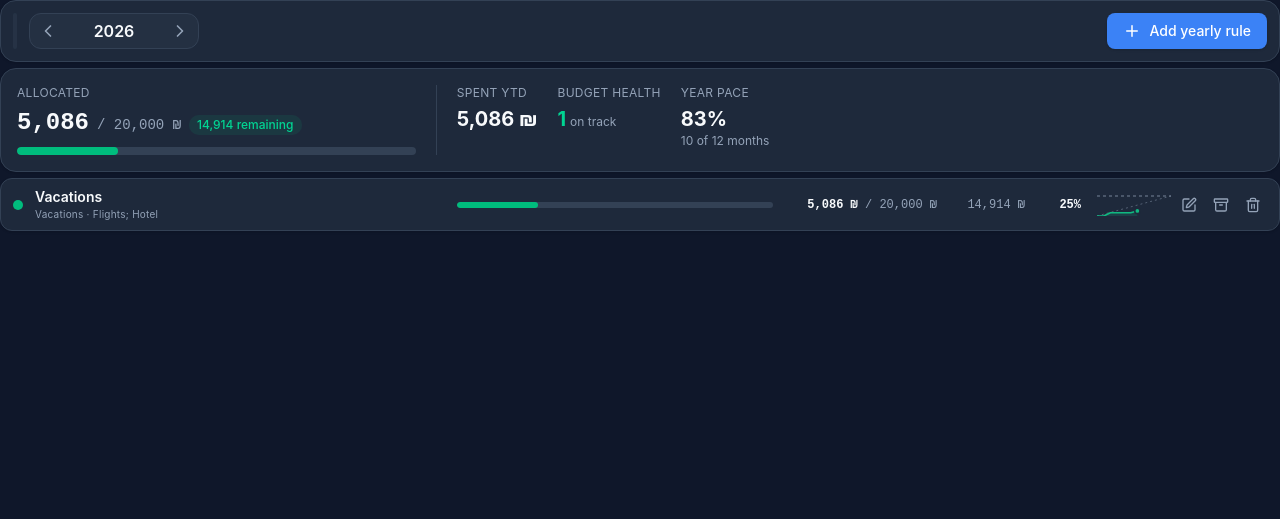
Test: YearlyBudgetView › related transactions › lists the year's transactions behind the rule once expanded
The image size is (1280, 519).
Click the button named "01.26 0 ₪ · 02.26 0 ₪ · 03.26 3.2K ₪ · 04.26 3.2K ₪". click: (592, 204)
box: [13,179,1171,230]
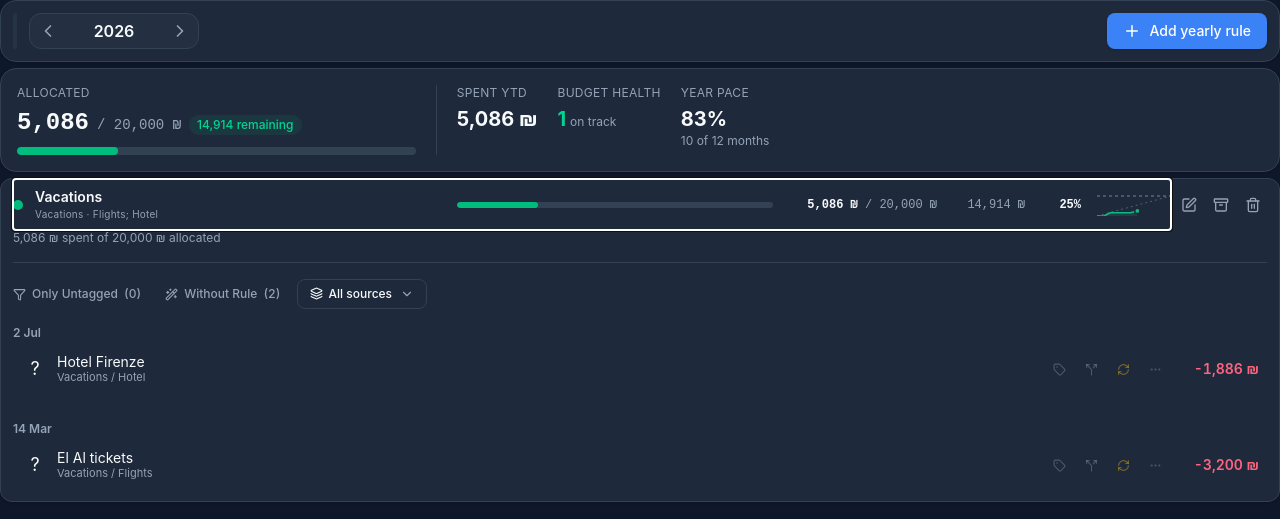
Check: the text "El Al tickets" is shown, box [57,449,133,466]
Check: the text "Hotel Firenze" is shown, box [57,353,145,370]
